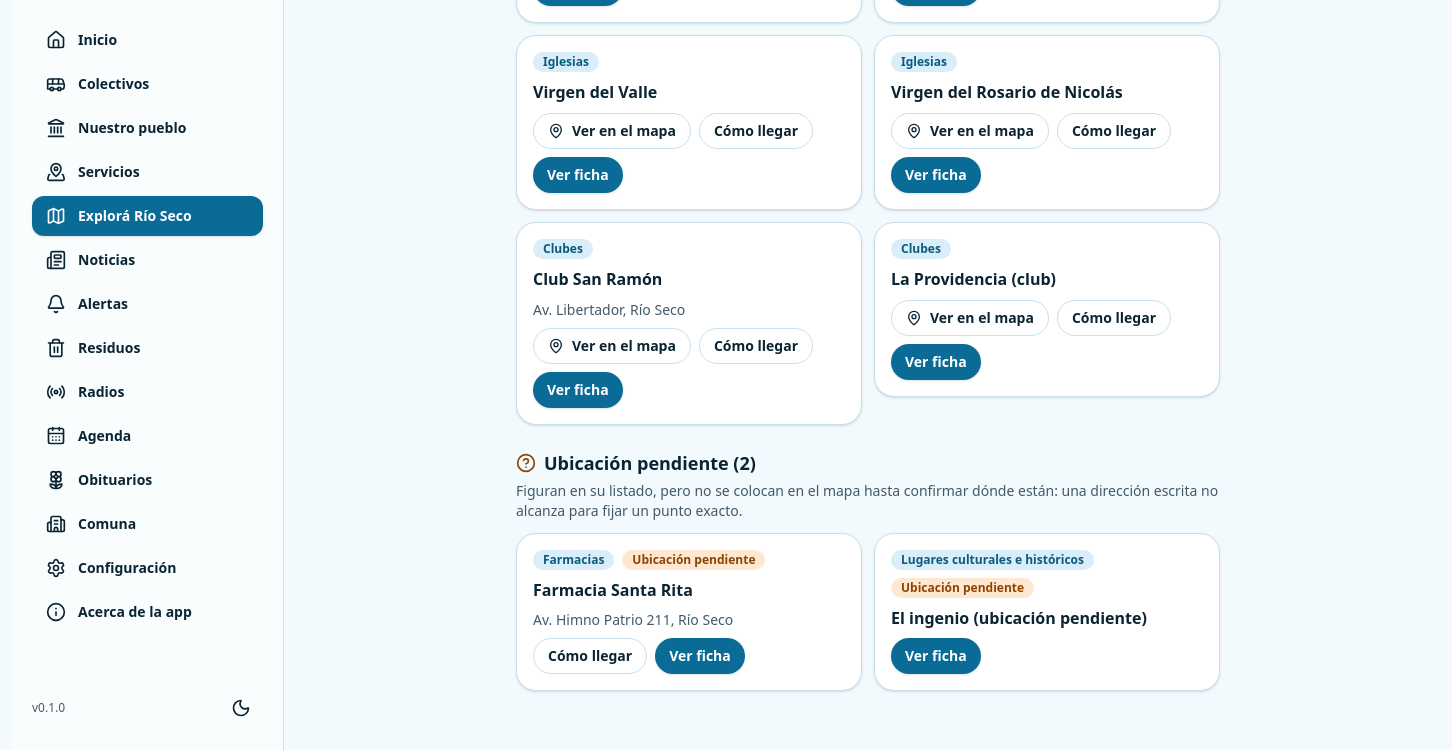
pantalla «Explorá Río Seco» › desde la lista, «Ver en el mapa» selecciona el lugar en la URL
The width and height of the screenshot is (1452, 750).
(page scrolled)
Click the button with aria-label "Mostrar Club San Ramón en el mapa". click: (612, 346)
box: [533, 328, 691, 364]
(page scrolled)
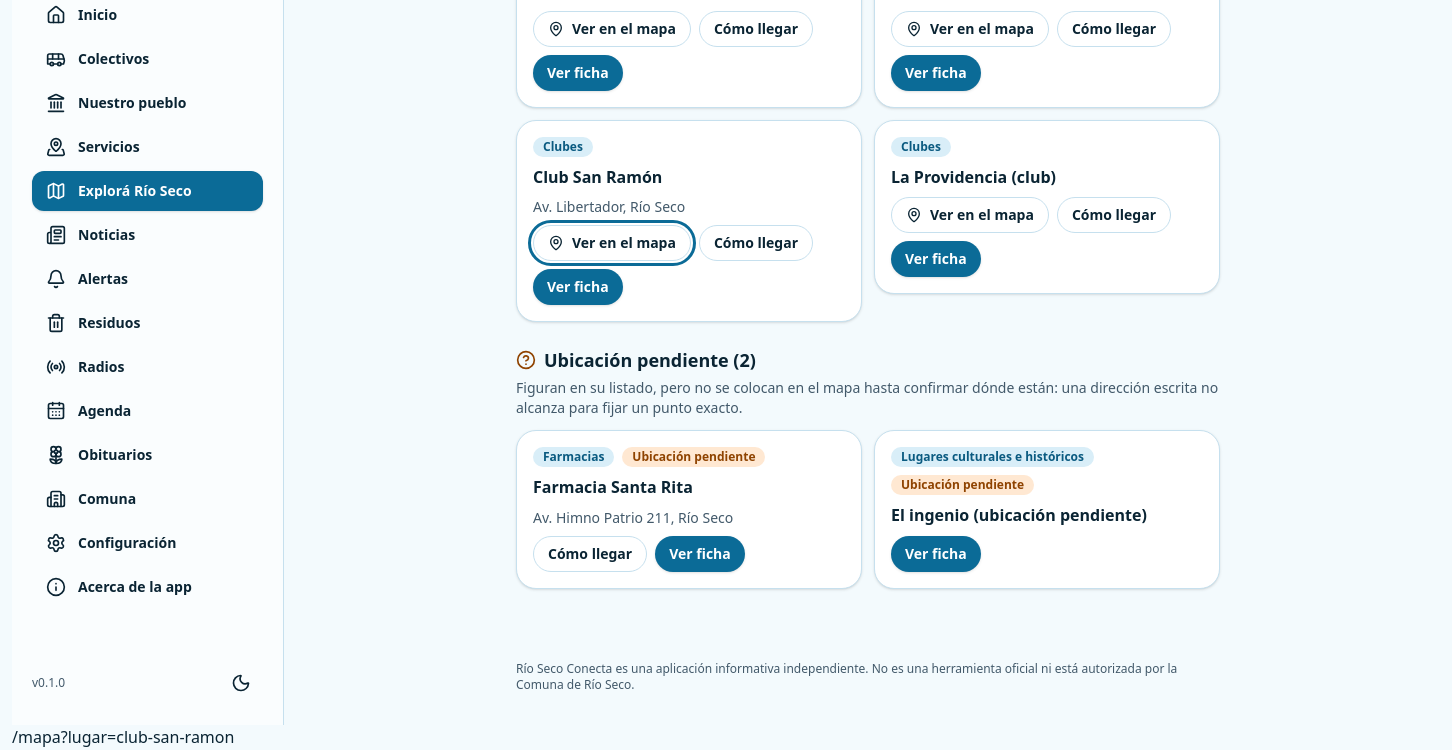
Expected: the text with test id "where" reads "/mapa?lugar=club-san-ramon", [12, 726, 234, 748]
